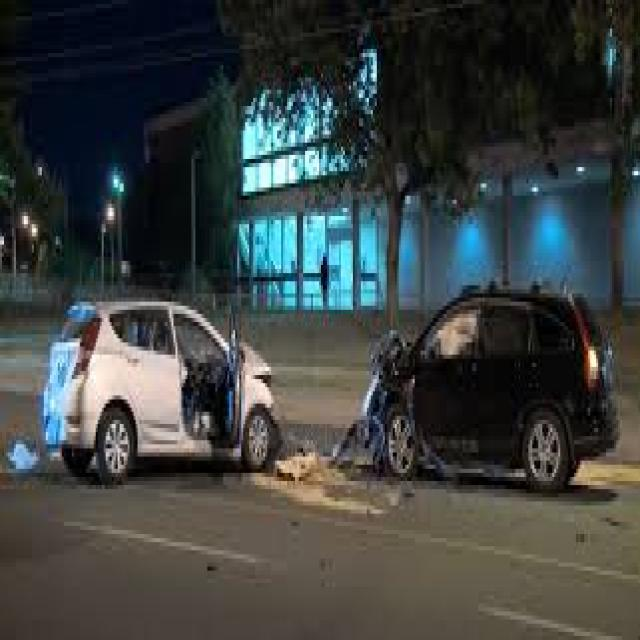Accident: (324, 278, 622, 500), (37, 288, 282, 488)
